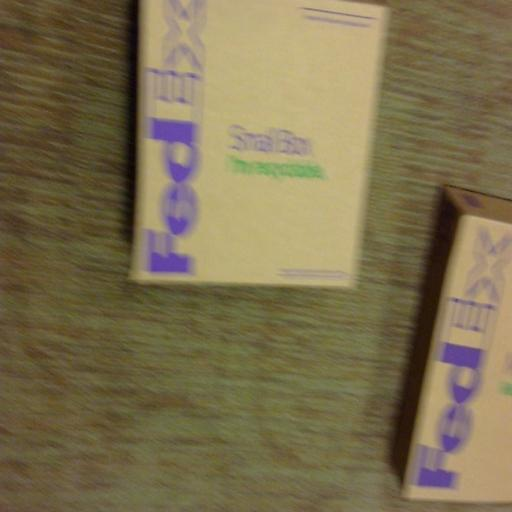Amazon: (113, 0, 398, 296), (398, 195, 512, 495)
